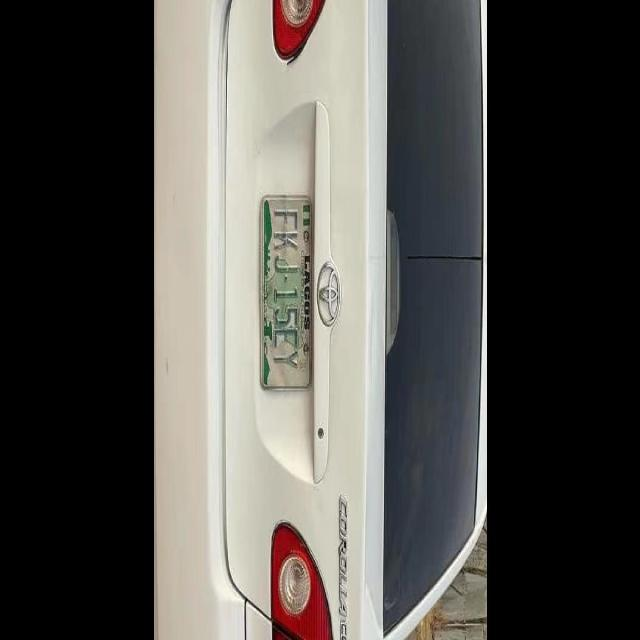Nigerian License Plate - vdataset benjamin-daria: (260, 194, 314, 390)
